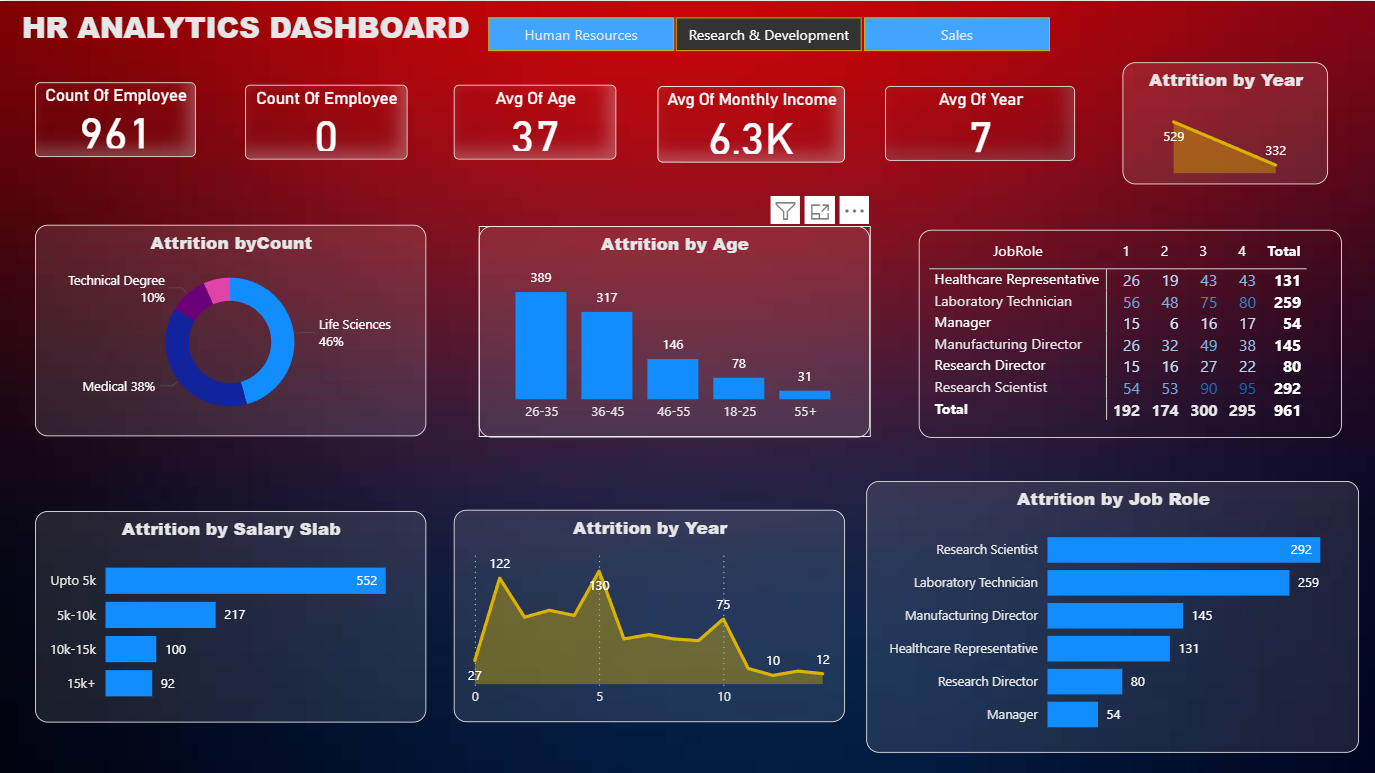

Layout of this report page (visuals, bound fields, positions):
{"tool":"powerbi","page":{"name":"Page 1","canvas":[1280,720],"ordinal":0},"visuals":[{"type":"card","title":"Count Of Employee","fields":{"Values":["CountNonNull(HR_Analytics csv.EducationField)"]},"box":[32.9,75.5,149.6,70],"z":0},{"type":"card","title":"Count Of Employee","fields":{"Values":["Min(HR_Analytics csv.Attritioncount)"]},"box":[227.8,78.2,150.9,70],"z":1000},{"type":"card","title":"Avg Of Age","fields":{"Values":["Avg(HR_Analytics csv.Age)"]},"box":[422.6,78.2,150.9,70],"z":3000},{"type":"card","title":"Avg Of  Monthly Income","fields":{"Values":["Avg(HR_Analytics csv.MonthlyIncome)"]},"box":[612,79.6,174.3,71.4],"z":4000},{"type":"card","title":"Avg Of  Year","fields":{"Values":["Avg(HR_Analytics csv.YearsAtCompany)"]},"box":[823.3,79.6,177,70],"z":5000},{"type":"donutChart","title":"Attrition  byCount","fields":{"Category":["HR_Analytics csv.EducationField"],"Y":["CountNonNull(HR_Analytics csv.Attritioncount)"]},"box":[33,208,363.6,196.6],"z":6000},{"type":"columnChart","title":"Attrition by Age","fields":{"Category":["HR_Analytics csv.AgeGroup"],"Y":["CountNonNull(HR_Analytics csv.Attritioncount)"]},"box":[445.5,209.1,363.6,196.6],"z":6001},{"type":"pivotTable","fields":{"Rows":["HR_Analytics csv.JobRole"],"Columns":["HR_Analytics csv.JobSatisfaction"],"Values":["CountNonNull(HR_Analytics csv.Attritioncount)"]},"box":[854.9,212.7,393.8,193.5],"z":6002},{"type":"barChart","title":"Attrition by Salary Slab","fields":{"Category":["HR_Analytics csv.SalarySlab"],"Y":["CountNonNull(HR_Analytics csv.Attritioncount)"]},"box":[33,473.9,363.6,196.6],"z":6003},{"type":"barChart","title":"Attrition by Job Role","fields":{"Category":["HR_Analytics csv.JobRole"],"Y":["CountNonNull(HR_Analytics csv.Attritioncount)"]},"box":[805.5,446,458.3,252.5],"z":6004},{"type":"areaChart","title":"Attrition by Year ","fields":{"Category":["HR_Analytics csv.YearsAtCompany"],"Y":["CountNonNull(HR_Analytics csv.Attritioncount)"]},"box":[422.6,473.4,363.6,197.6],"z":6005},{"type":"areaChart","title":"Attrition by Year ","fields":{"Y":["CountNonNull(HR_Analytics csv.Attritioncount)"],"Category":["HR_Analytics csv.Gender"]},"box":[1044.3,56.8,190.9,113.6],"z":6006},{"type":"slicer","fields":{"Values":["HR_Analytics csv.Department"]},"box":[428.4,8,572.7,45.5],"z":6007},{"type":"textbox","box":[15.1,0,430.9,53.5],"z":6008}]}

Visuals, with their boxes in screenshot pixels (x1, y1, x2, y2), scaled from the page's 1280x720 canvas onto the 1375x773 screenshot:
"Count Of Employee" card: Rect(35, 81, 196, 156)
"Count Of Employee" card: Rect(245, 84, 407, 159)
"Avg Of Age" card: Rect(454, 84, 616, 159)
"Avg Of  Monthly Income" card: Rect(657, 85, 845, 162)
"Avg Of  Year" card: Rect(884, 85, 1075, 161)
"Attrition  byCount" donutChart: Rect(35, 223, 426, 434)
"Attrition by Age" columnChart: Rect(479, 224, 869, 436)
pivotTable - HR_Analytics csv.JobRole x HR_Analytics csv.JobSatisfaction: Rect(918, 228, 1341, 436)
"Attrition by Salary Slab" barChart: Rect(35, 509, 426, 720)
"Attrition by Job Role" barChart: Rect(865, 479, 1358, 750)
"Attrition by Year " areaChart: Rect(454, 508, 845, 720)
"Attrition by Year " areaChart: Rect(1122, 61, 1327, 183)
slicer - HR_Analytics csv.Department: Rect(460, 9, 1075, 57)
textbox: Rect(16, 0, 479, 57)
